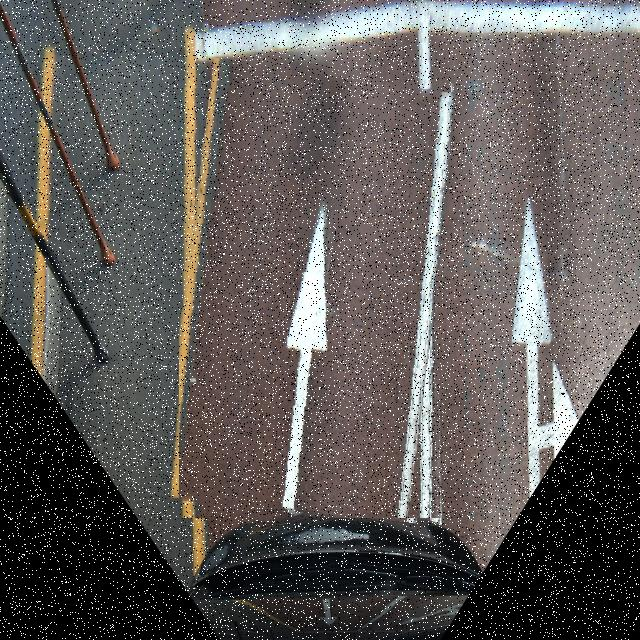forward: (179, 64, 451, 518)
